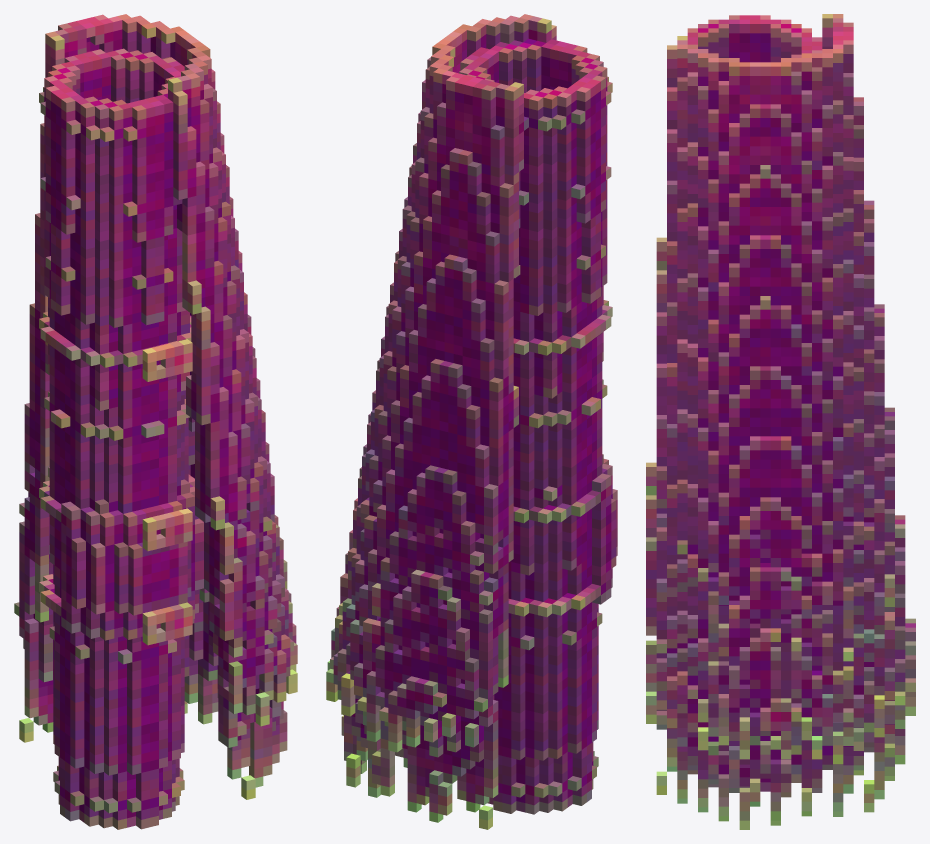
File: armor_set0_legs.glb
3 views of the same model, side by side, from view 1: azimuth 30°, elevation 25°; view 2: azimuth 150°, elevation 25°; view 3: azimuth 270°, elevation 25° (orthographic).
Parts seen in each view (by area): view 1: Armor_Set0_legs; view 2: Armor_Set0_legs; view 3: Armor_Set0_legs.
Boxes of the visible parts, <box> form: Armor_Set0_legs: <box>14,14,297,829</box>; Armor_Set0_legs: <box>326,14,617,829</box>; Armor_Set0_legs: <box>646,14,915,829</box>.
Bounding box in the file's own units: 0.182 × 0.553 × 0.182.
